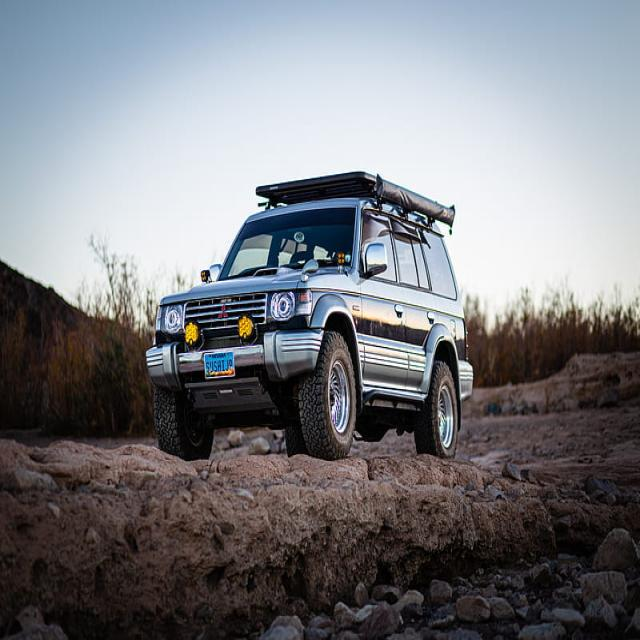light_vehicle: (145, 170, 475, 462)
